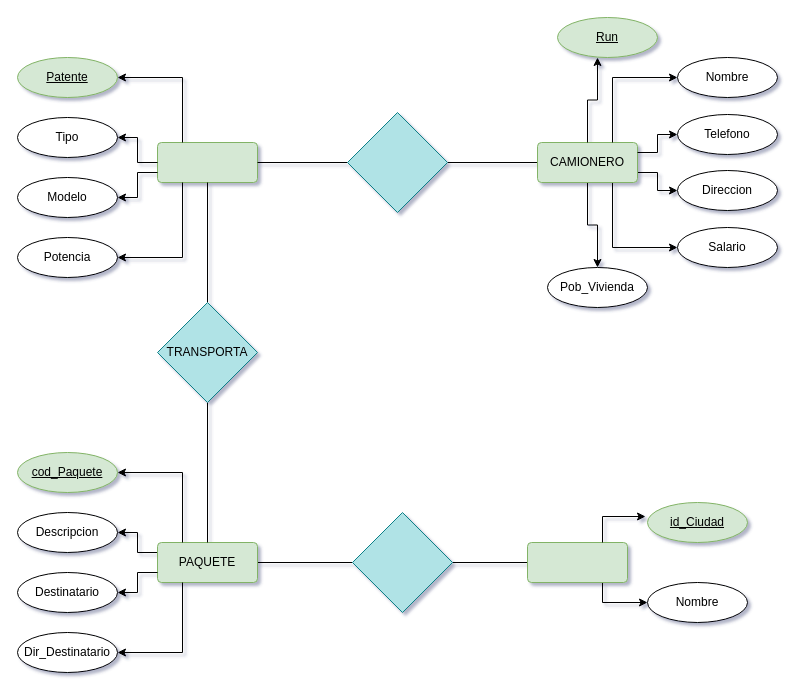
Some shapes in this 801 by 696 pixel diagram are drawn without their labels. The centre of each missing label's shape, as x and y in pixels:
"CAMION" goes at pixel 207 162.
"CIUDAD" goes at pixel 577 562.
"CONDUCE" goes at pixel 397 162.
"ENTREGA" goes at pixel 402 562.
